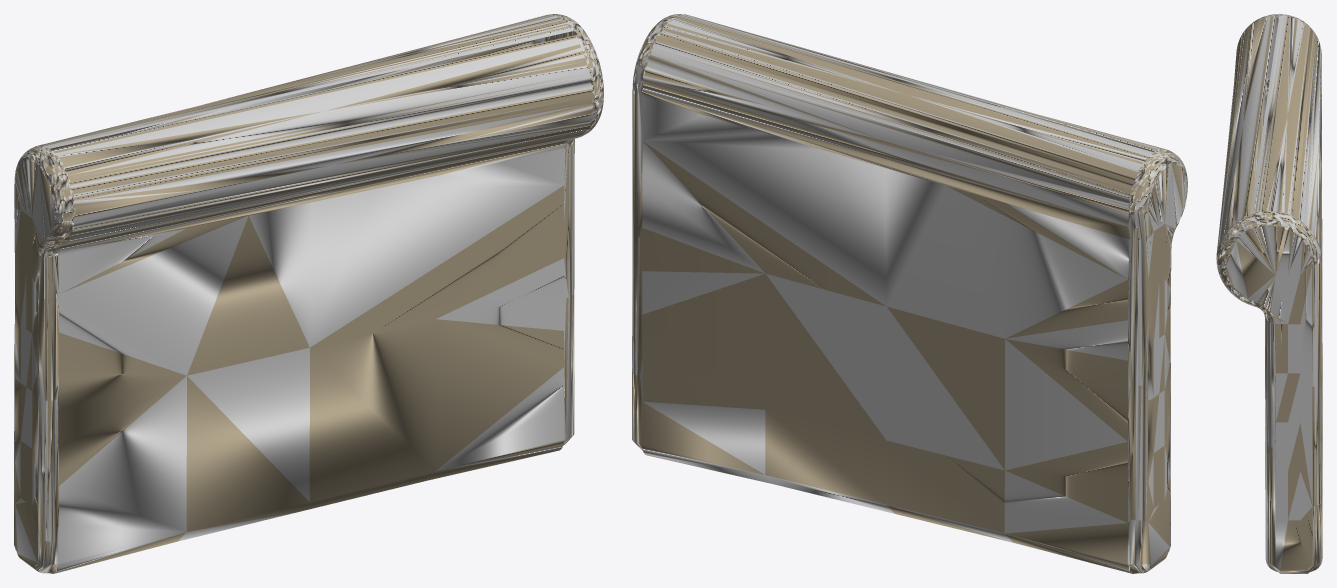
File: left_arm.obj
3 views of the same model, side by side, from view 1: azimuth 30°, elevation 25°; view 2: azimuth 150°, elevation 25°; view 3: azimuth 270°, elevation 25° (orthographic). The views are drawn at different scales.
Visible parts, largest first — view 1: left_arm_mesh1.002_mesh1-geometry; view 2: left_arm_mesh1.002_mesh1-geometry; view 3: left_arm_mesh1.002_mesh1-geometry.
Boxes of the visible parts, <box> form: left_arm_mesh1.002_mesh1-geometry: <box>14,14,603,573</box>; left_arm_mesh1.002_mesh1-geometry: <box>632,14,1187,573</box>; left_arm_mesh1.002_mesh1-geometry: <box>1216,14,1322,573</box>.
Bounding box in the file's own units: 0.5032 × 0.3909 × 0.1041.
